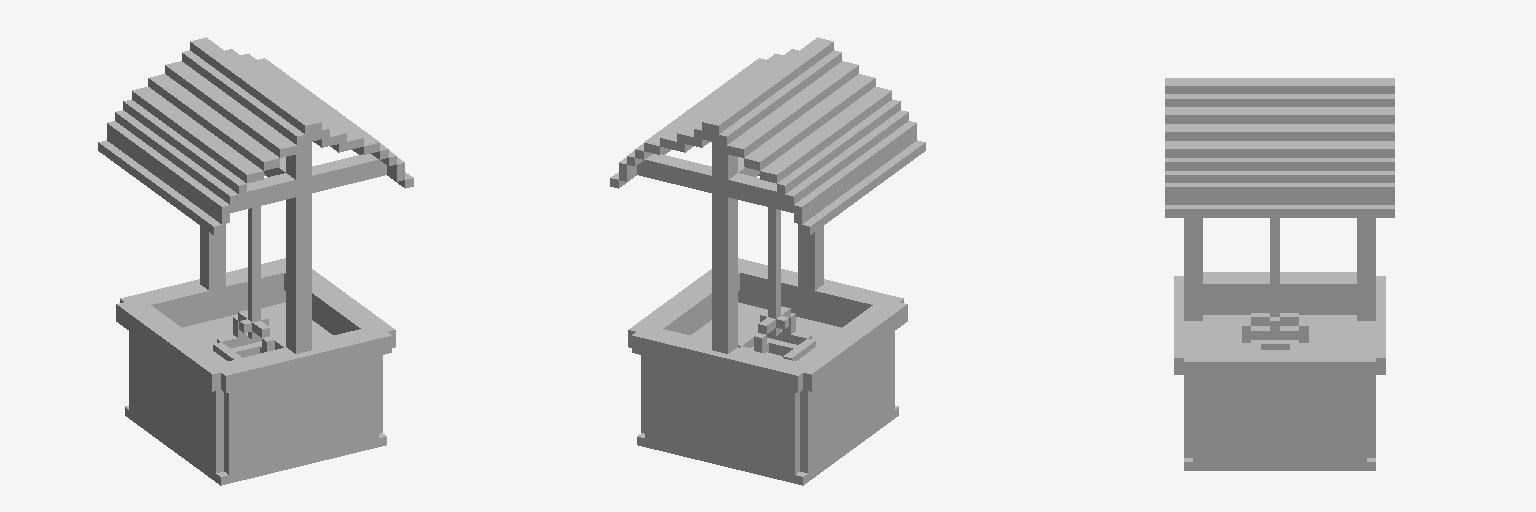
Rendered from Tarefa Poço-13.obj.
The picture shows the model from 3 angles: view 1: azimuth 30°, elevation 25°; view 2: azimuth 150°, elevation 25°; view 3: azimuth 270°, elevation 25°; orthographic projection.
Size of the model in its own units: 24 by 40 by 24.